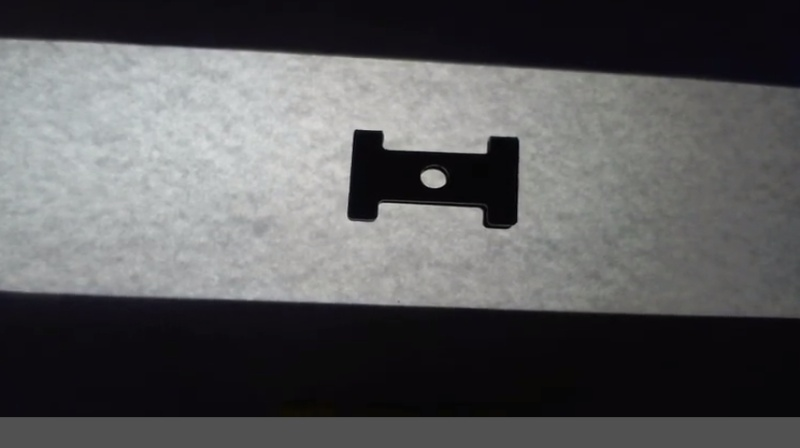O002: (348, 125, 528, 232)
